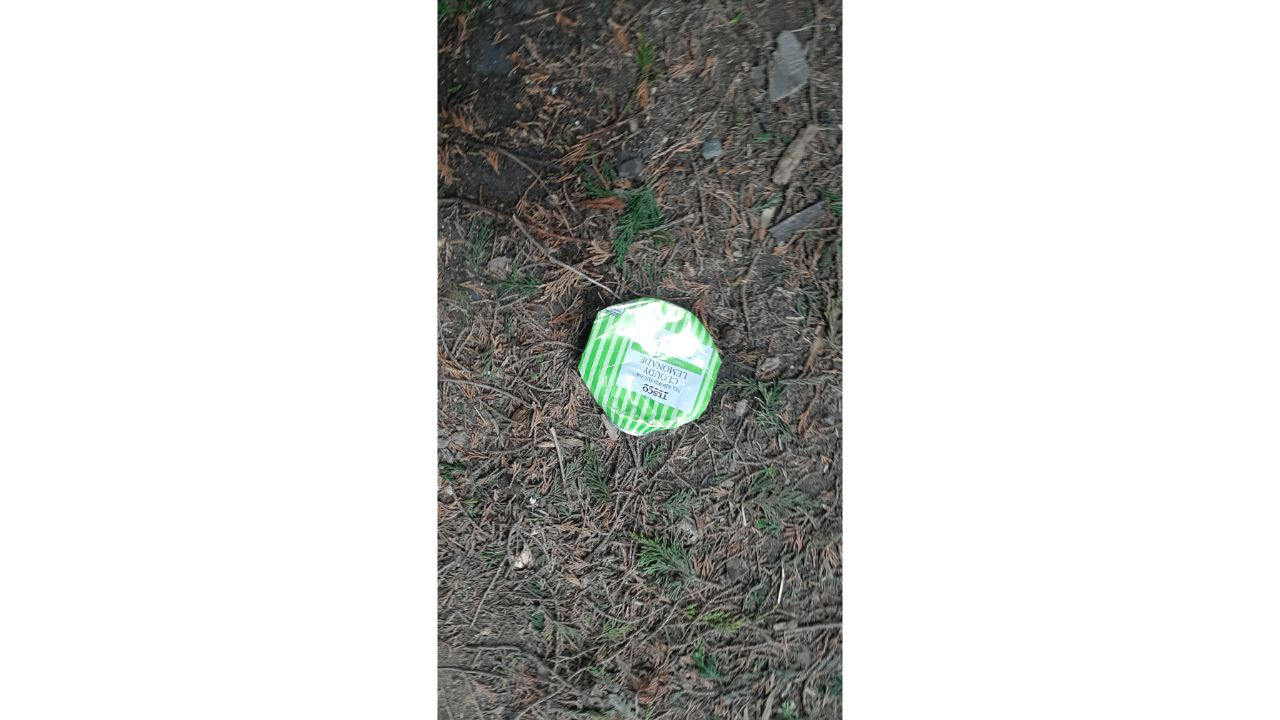Can: (579, 298, 725, 438)
